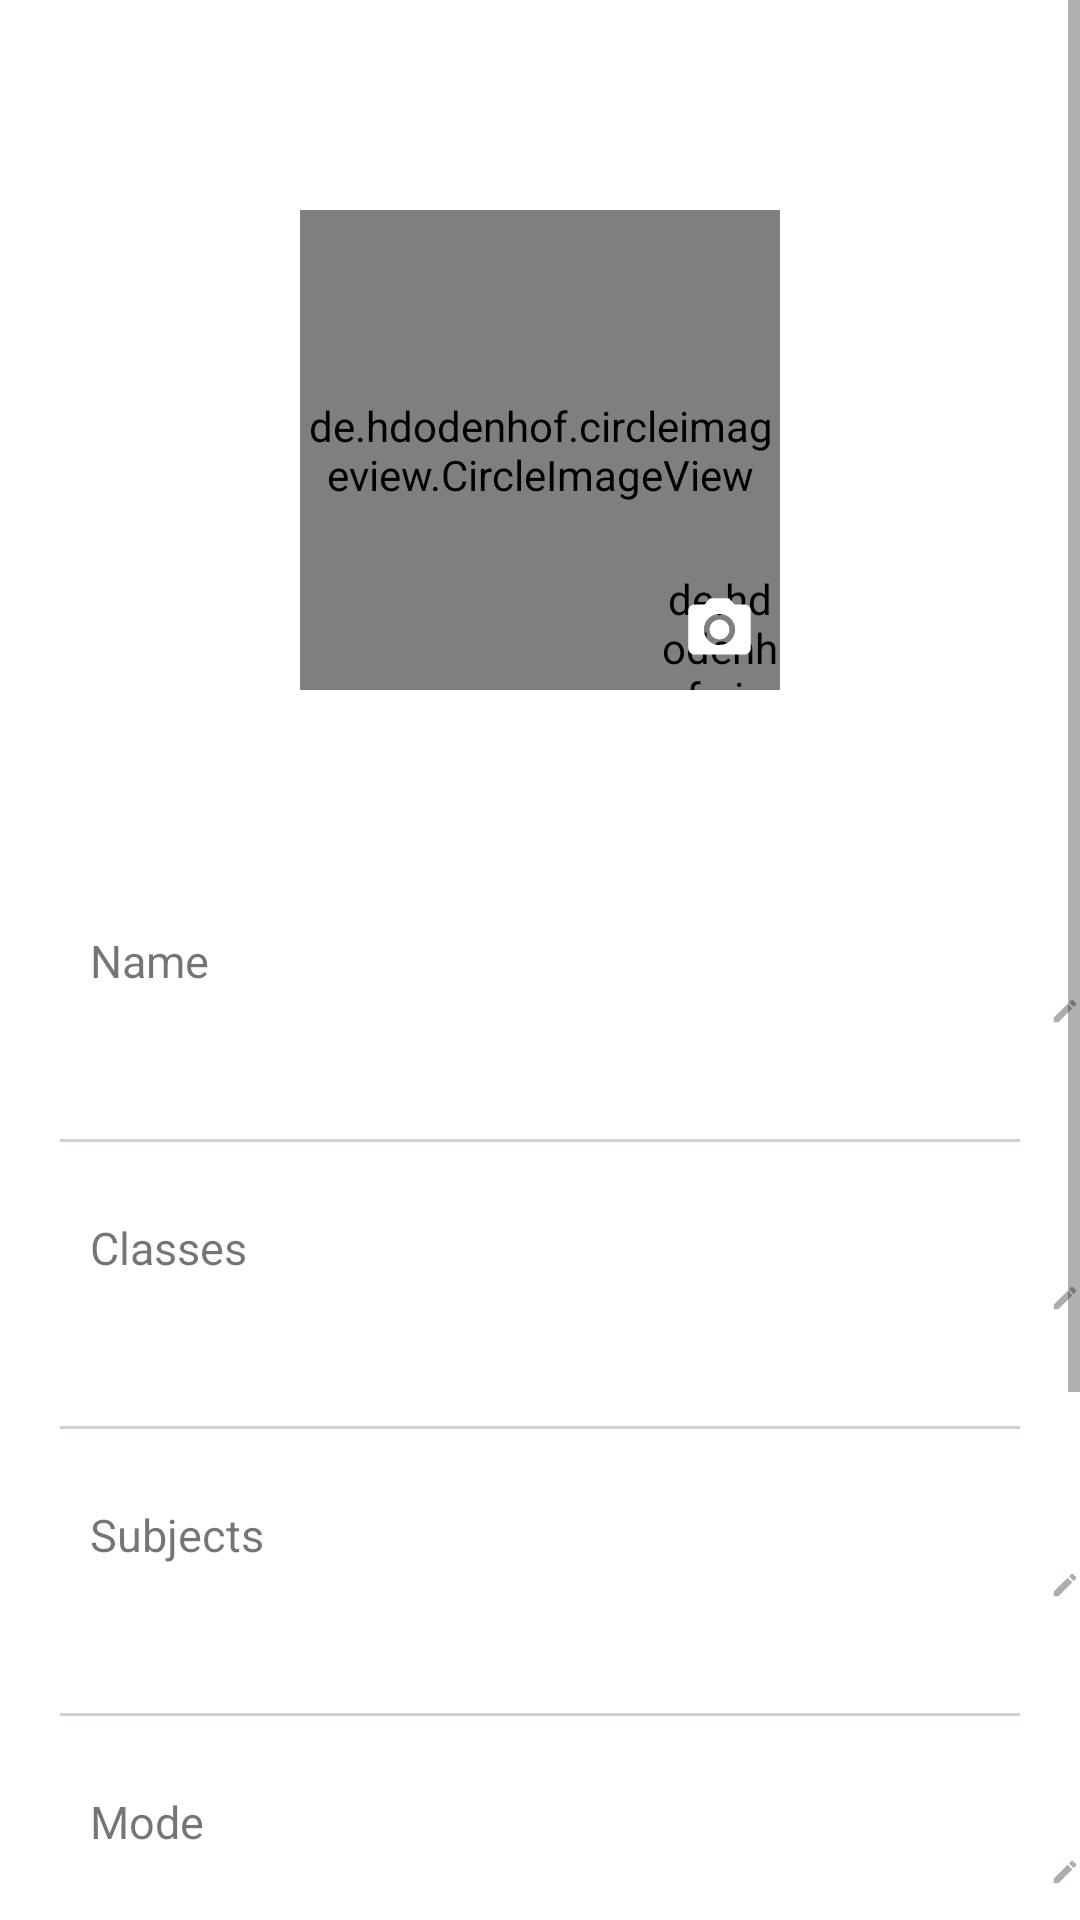

Named icons in this screenshot (1080x1920) and their centers, [x,y]:
camera: [719,628]
